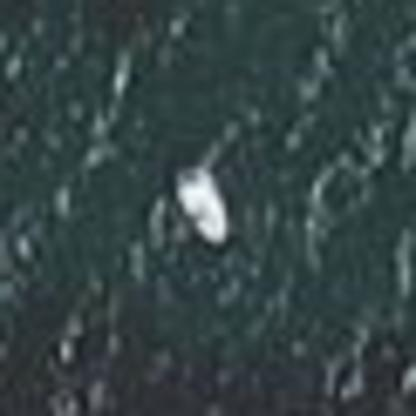ship: (164, 157, 244, 254)
